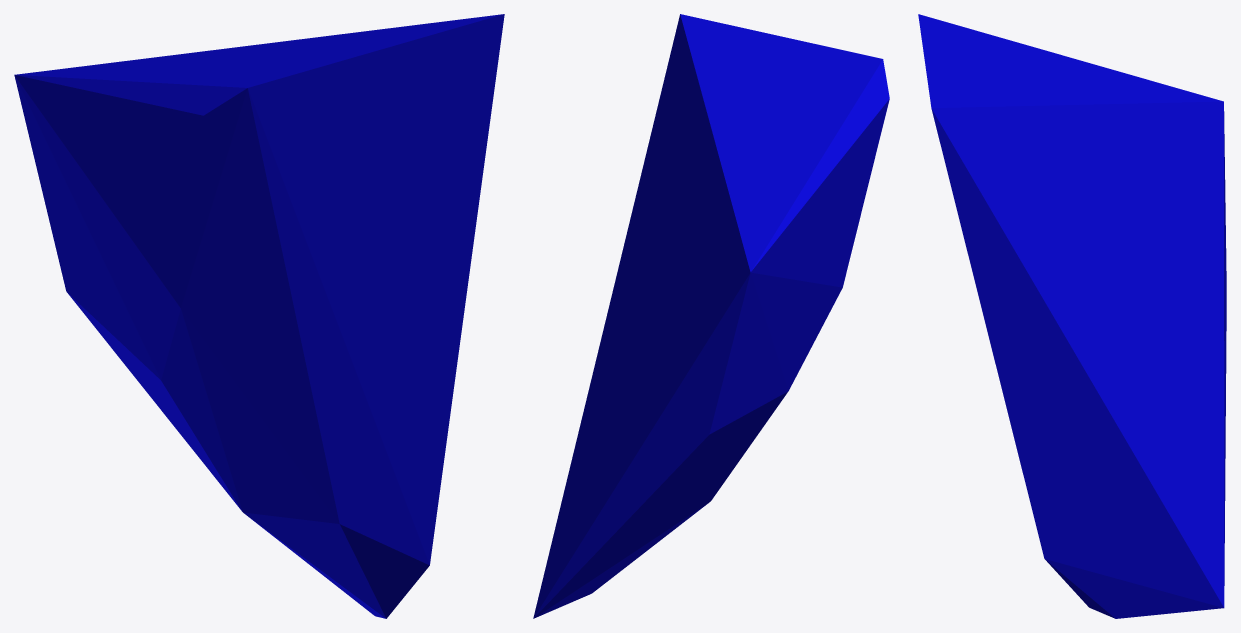
File: arm-L1-mirror_convex_piece_007.obj
The picture shows the model from 3 angles, left to right: view 1: azimuth 30°, elevation 25°; view 2: azimuth 150°, elevation 25°; view 3: azimuth 270°, elevation 25°; orthographic projection. The views are drawn at different scales.
Size of the model in its own units: 0.0134 by 0.0301 by 0.0164.
